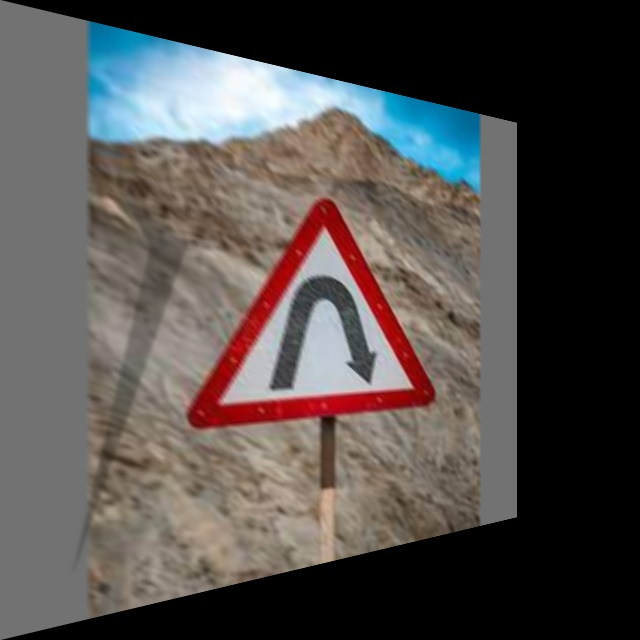Right_Hair_Pin_Bend: (208, 189, 433, 423)
